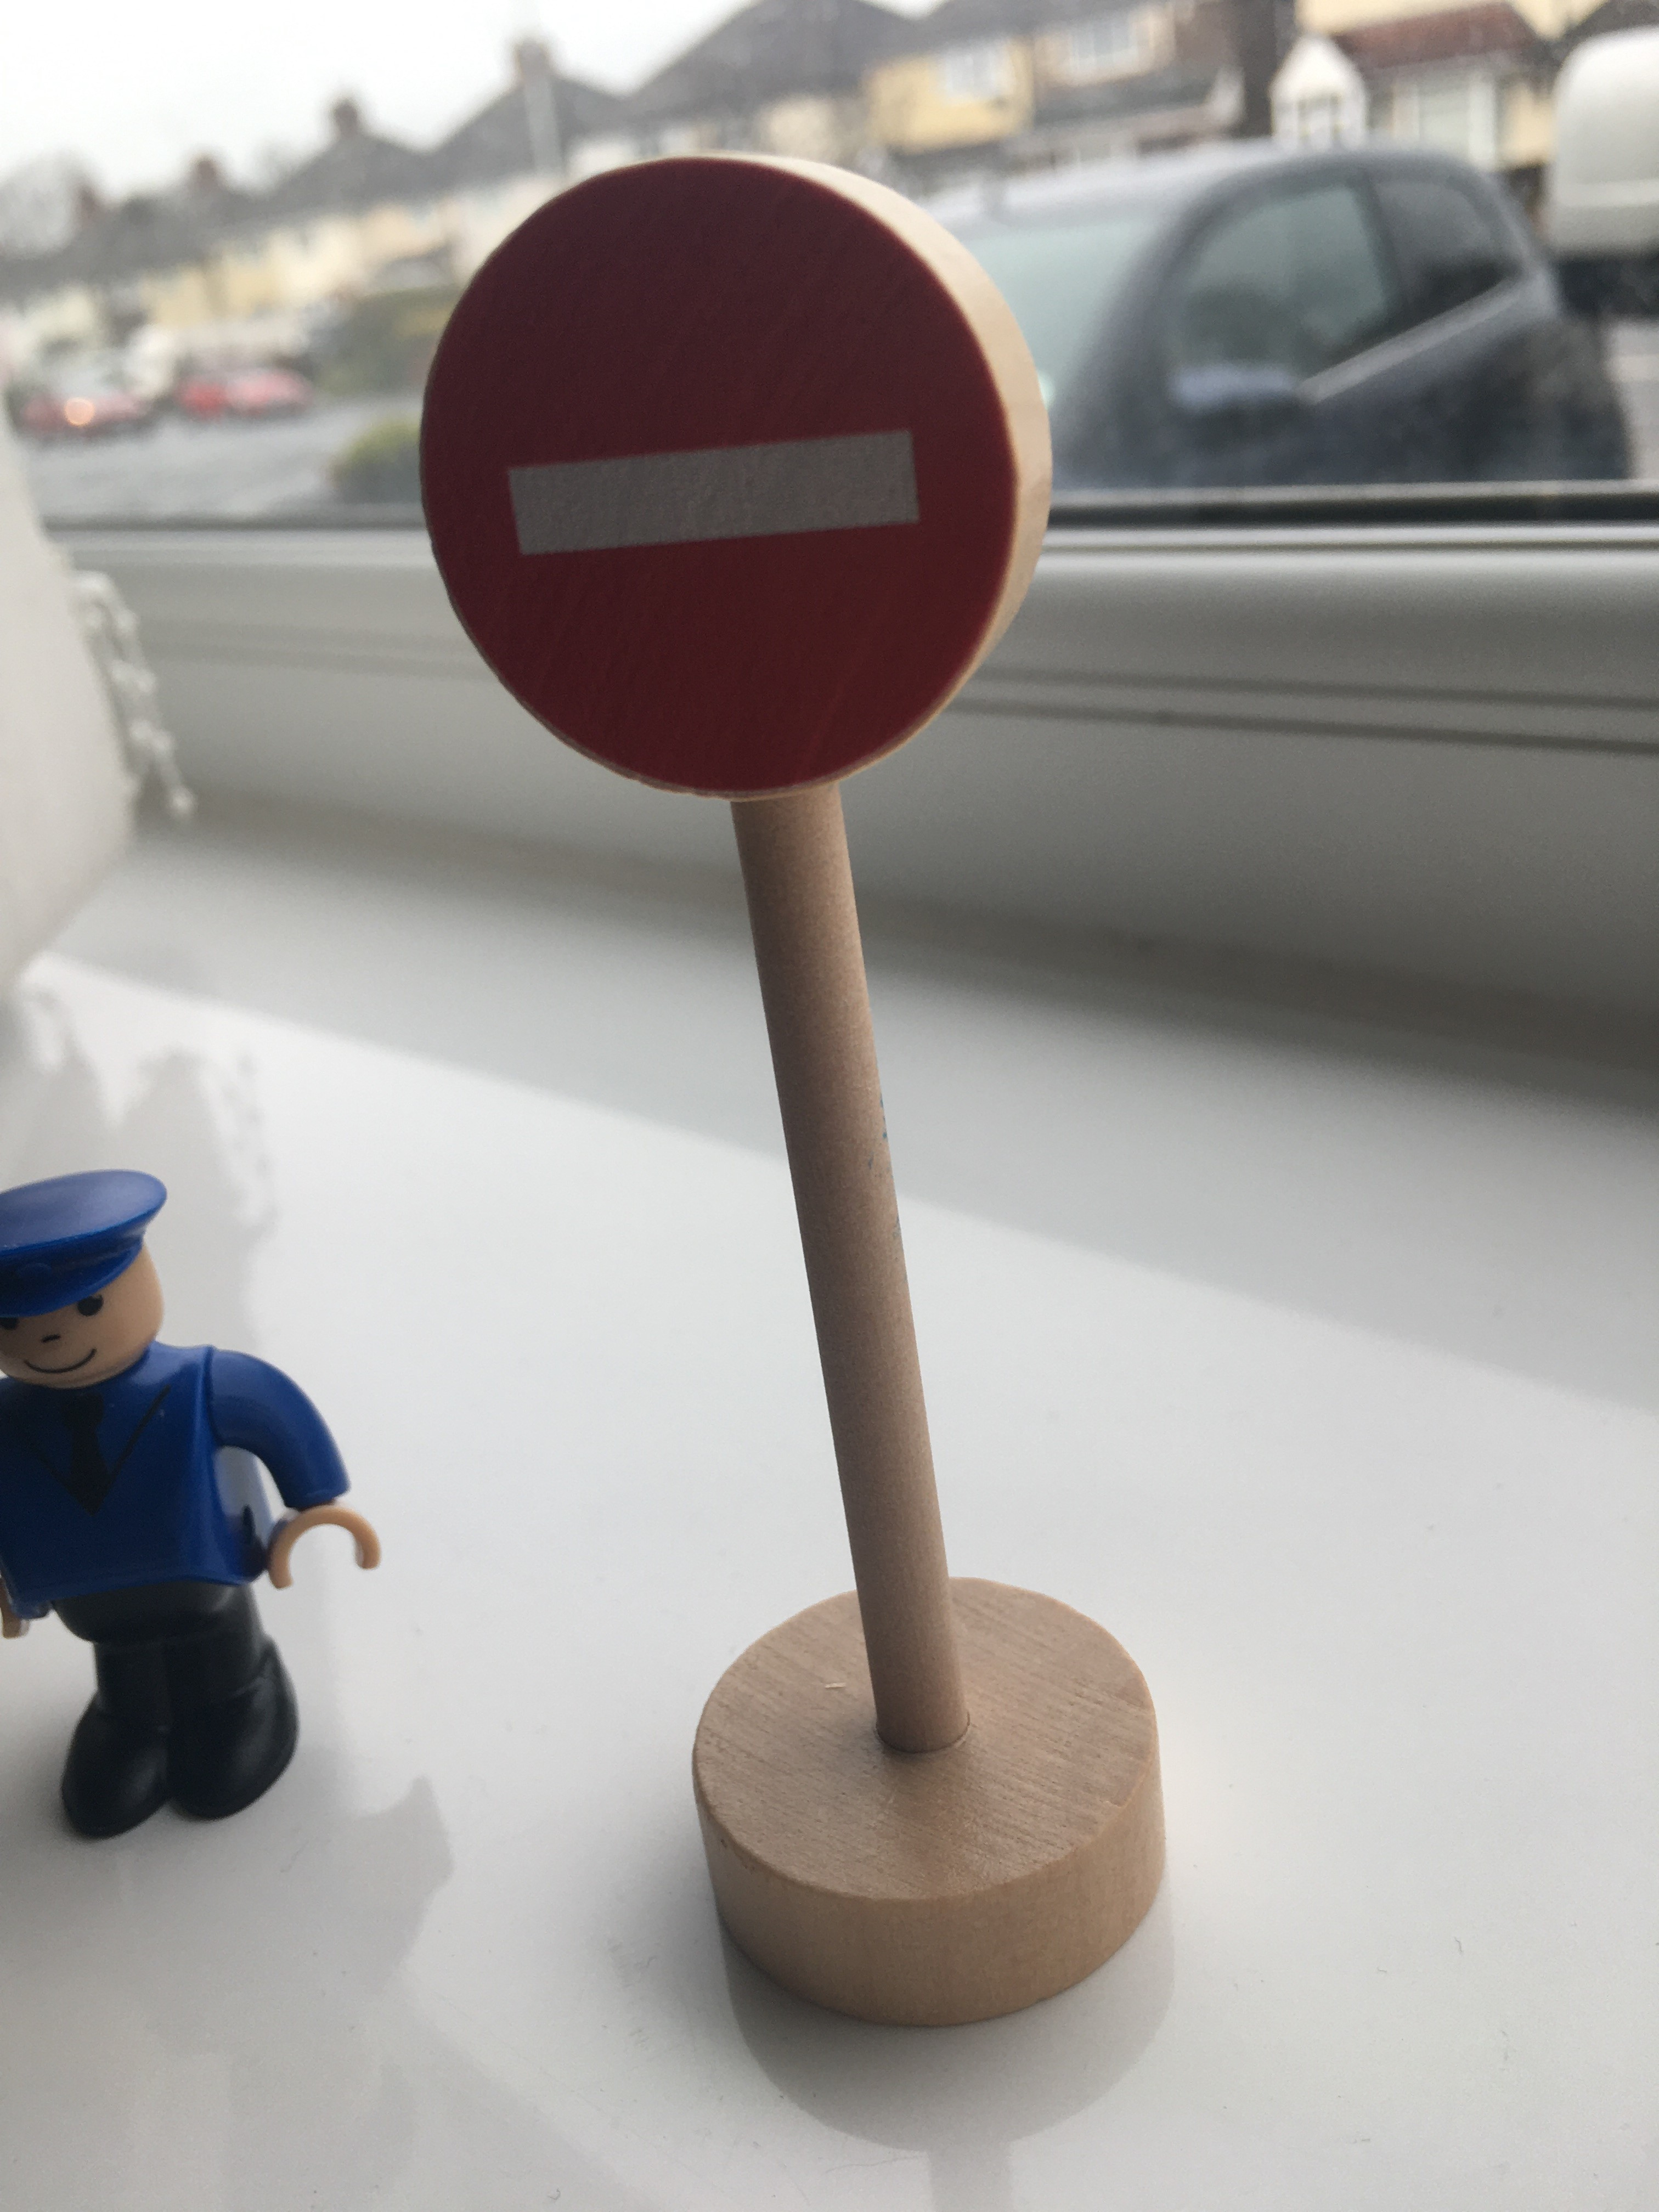Traffic_Sign_No_Entry: (420, 150, 1019, 792)
person: (3, 1176, 380, 1842)
